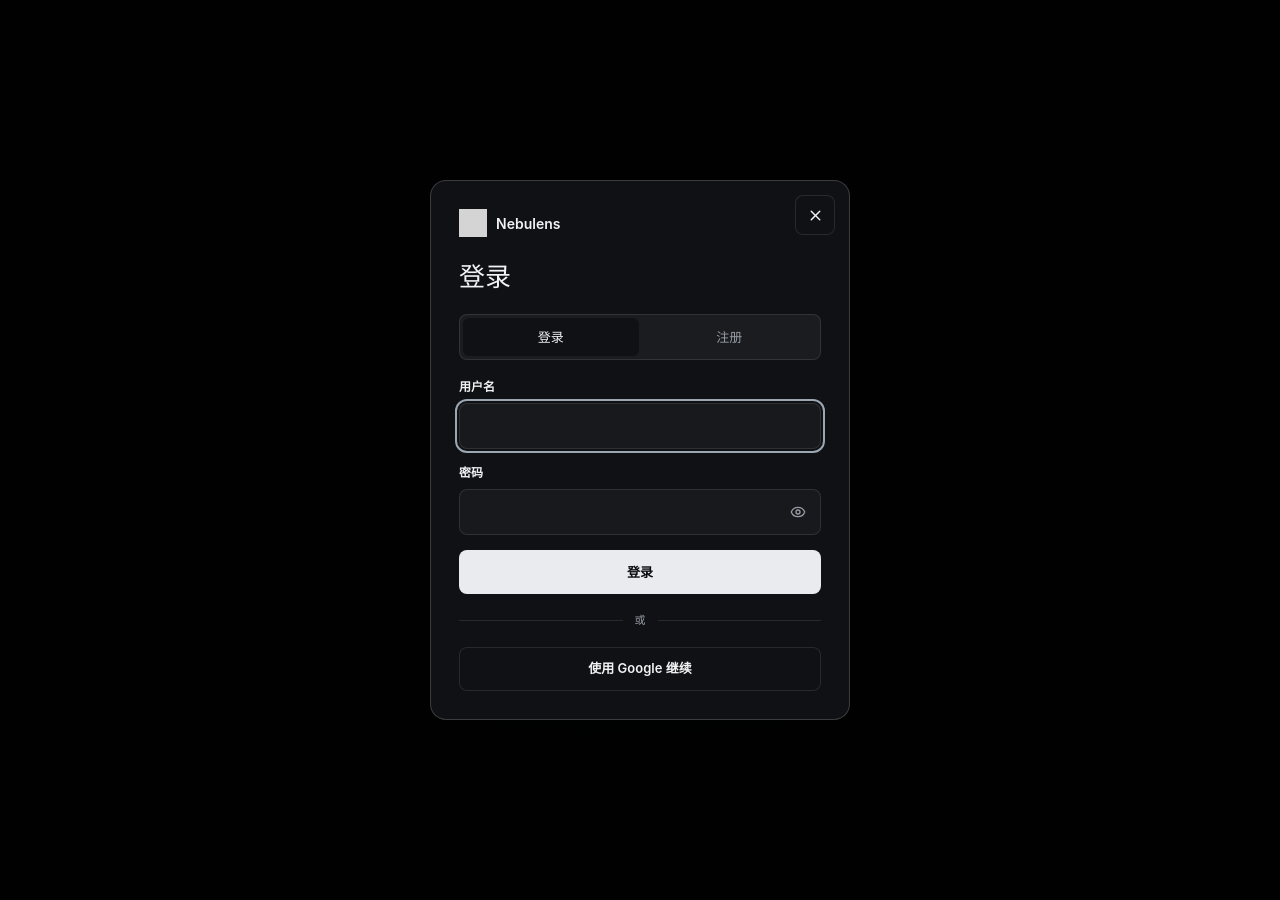
LoginModal › validates credentials inline and exposes password visibility
Click the password field labelled "密码". click: (640, 512)
box: x1=459 y1=489 x2=821 y2=535
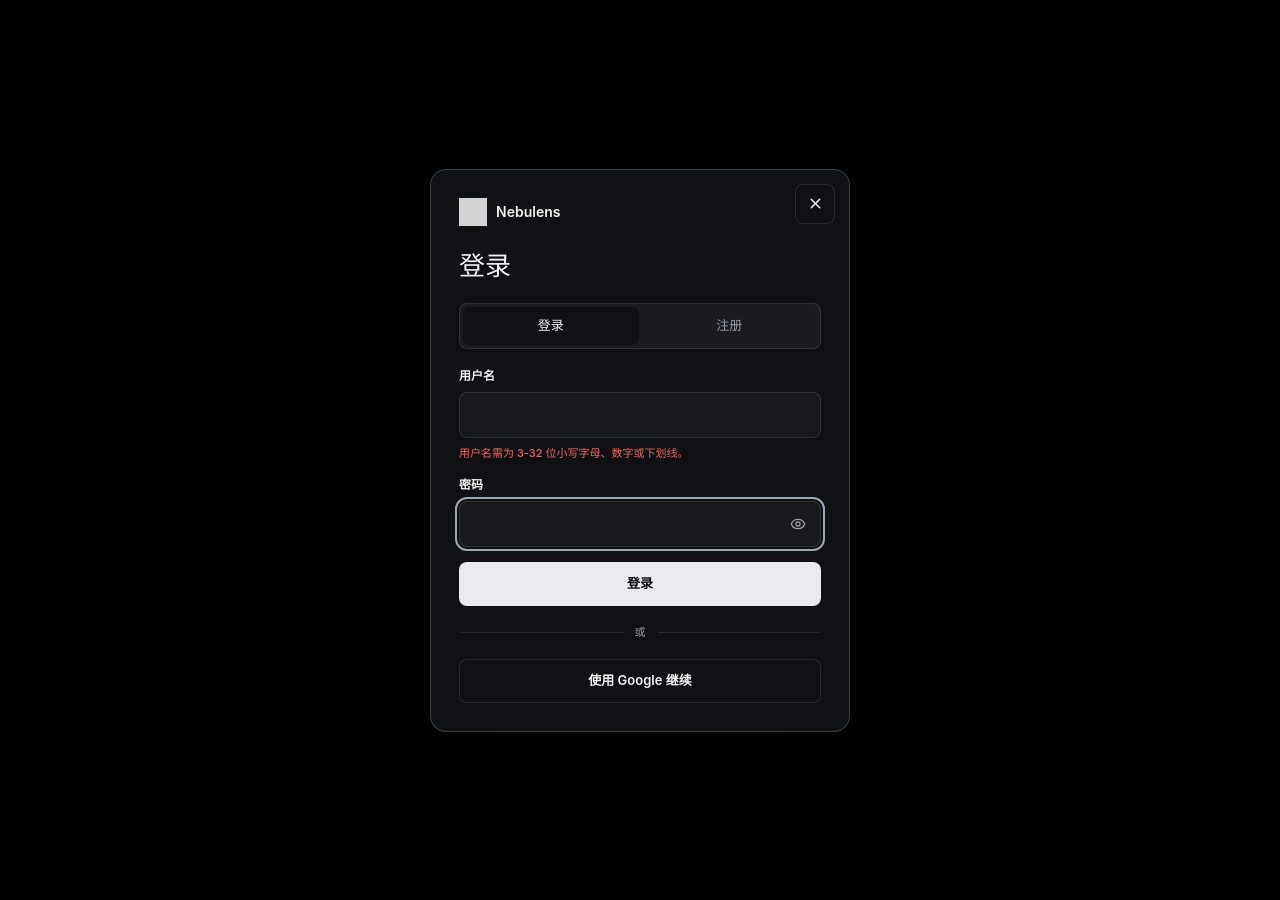
expect the text "用户名需为 3-32 位小写字母、数字或下划线。" is shown: met, box x1=459 y1=446 x2=688 y2=460
Type "123" into the password field labelled "密码". click: (640, 524)
box: x1=459 y1=501 x2=821 y2=547
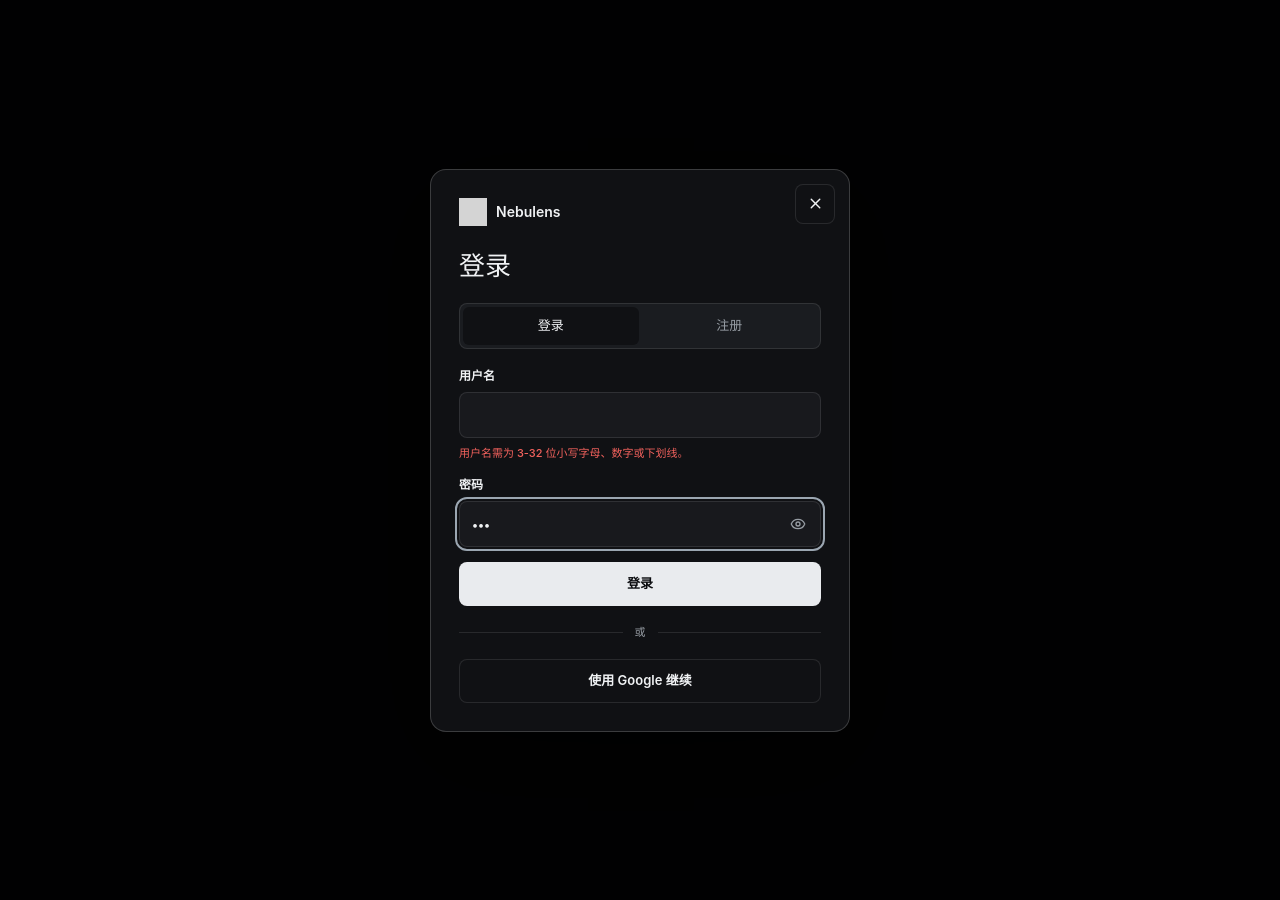
Press Tab
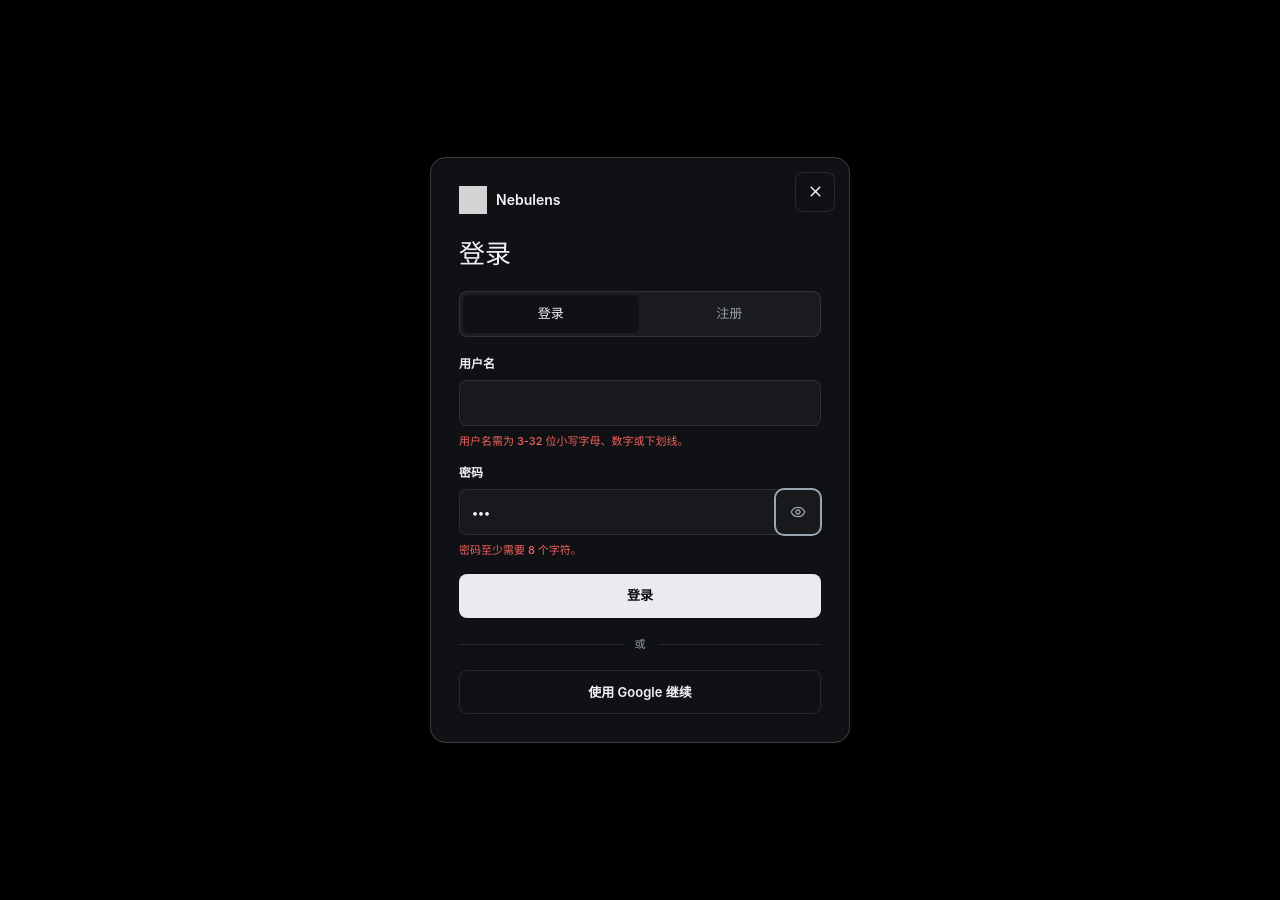
expect the text "密码至少需要 8 个字符。" is shown: met, box x1=459 y1=543 x2=582 y2=557
Click the button named "显示密码". click: (798, 512)
box: x1=778 y1=492 x2=818 y2=532
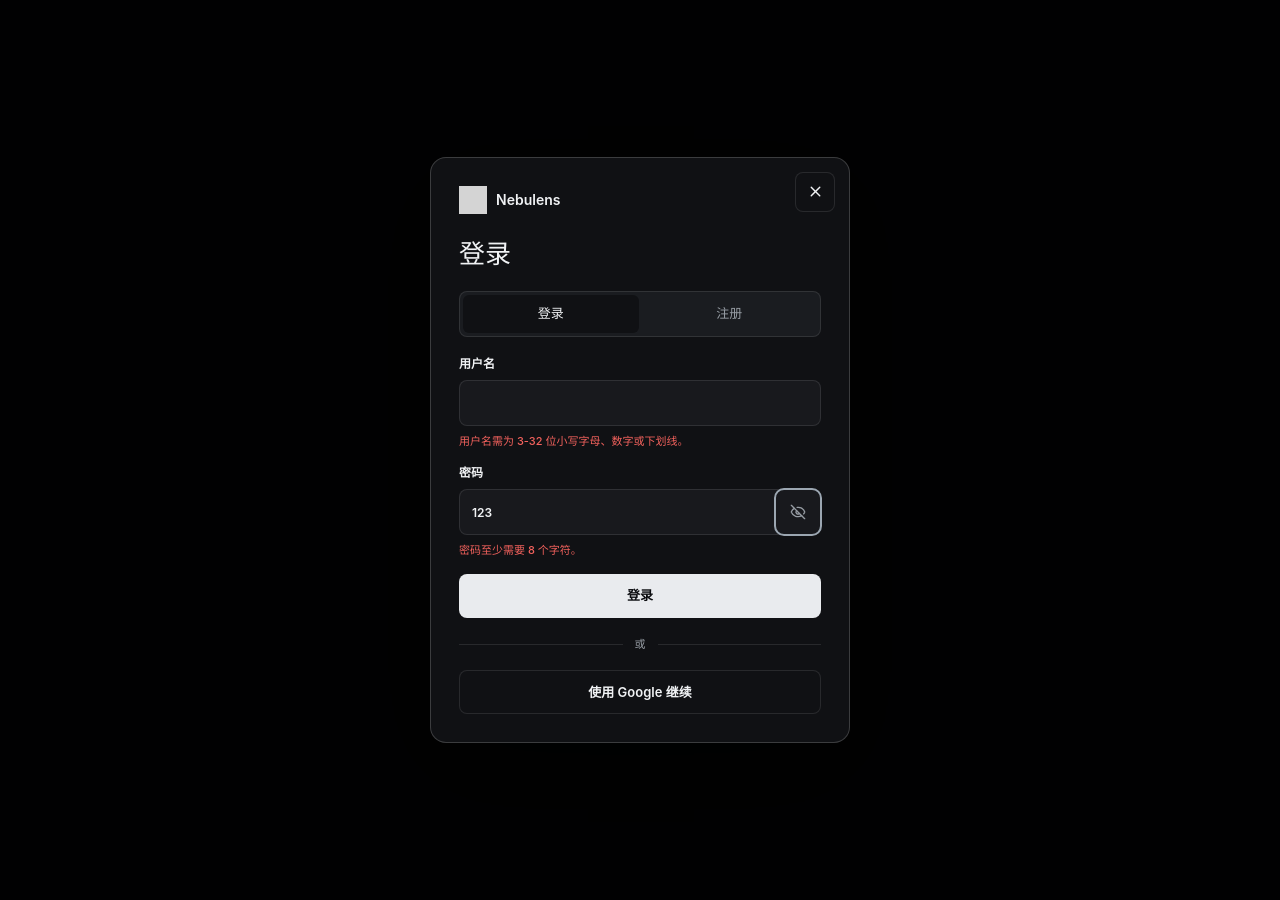
expect the field labelled "密码" shows its text: met, box x1=459 y1=489 x2=821 y2=535
